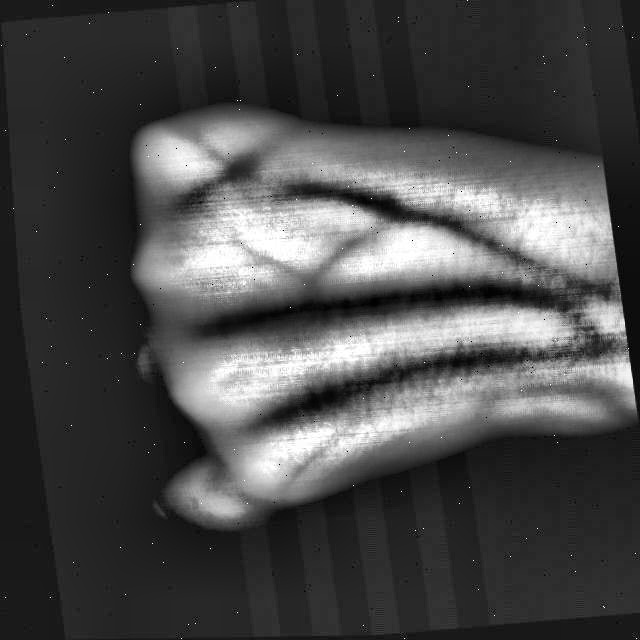Vein: (287, 265, 570, 332)
